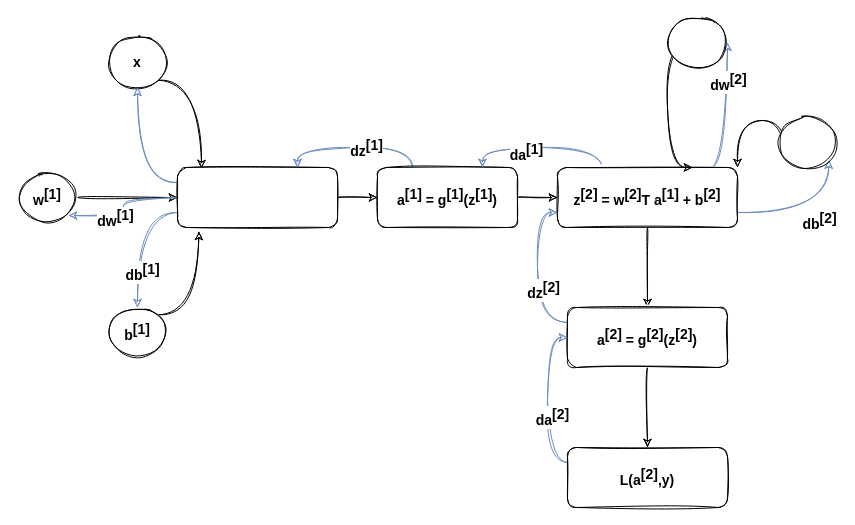
Image size: 855x525. Some labels were removed from this diagram. Here are the shapes that lost their labels. From the top down, the box of each, then its label:
(666, 16, 728, 68): w [2]
(776, 116, 838, 168): b [2]
(176, 166, 338, 228): z [1] = w [1]T x + b [1]
